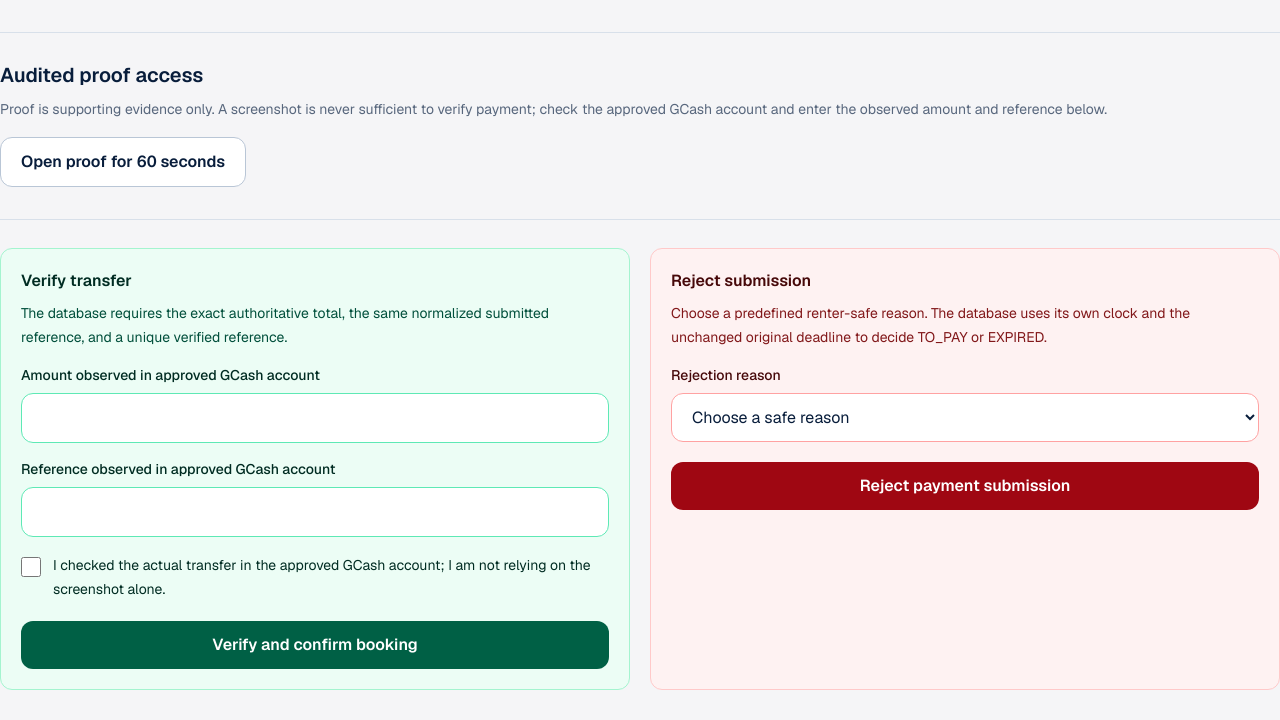
it: retains the rejection reason after a returned failure
Step 1. Select "Transfer was not found in GCash" in the dropdown labelled "Rejection reason" → {"x": 965, "y": 418}, box x1=671 y1=393 x2=1259 y2=442
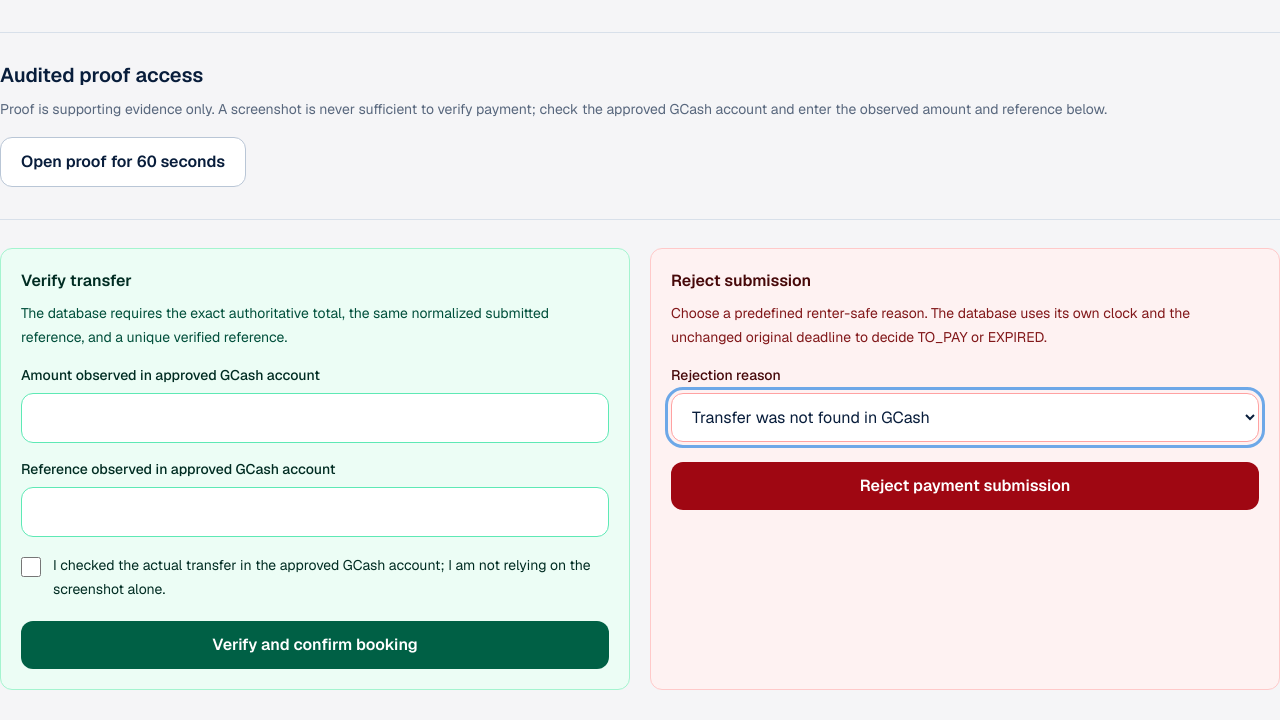
Step 2. Click the button "Reject payment submission" → {"x": 965, "y": 486}, box x1=671 y1=462 x2=1259 y2=510
(page scrolled)
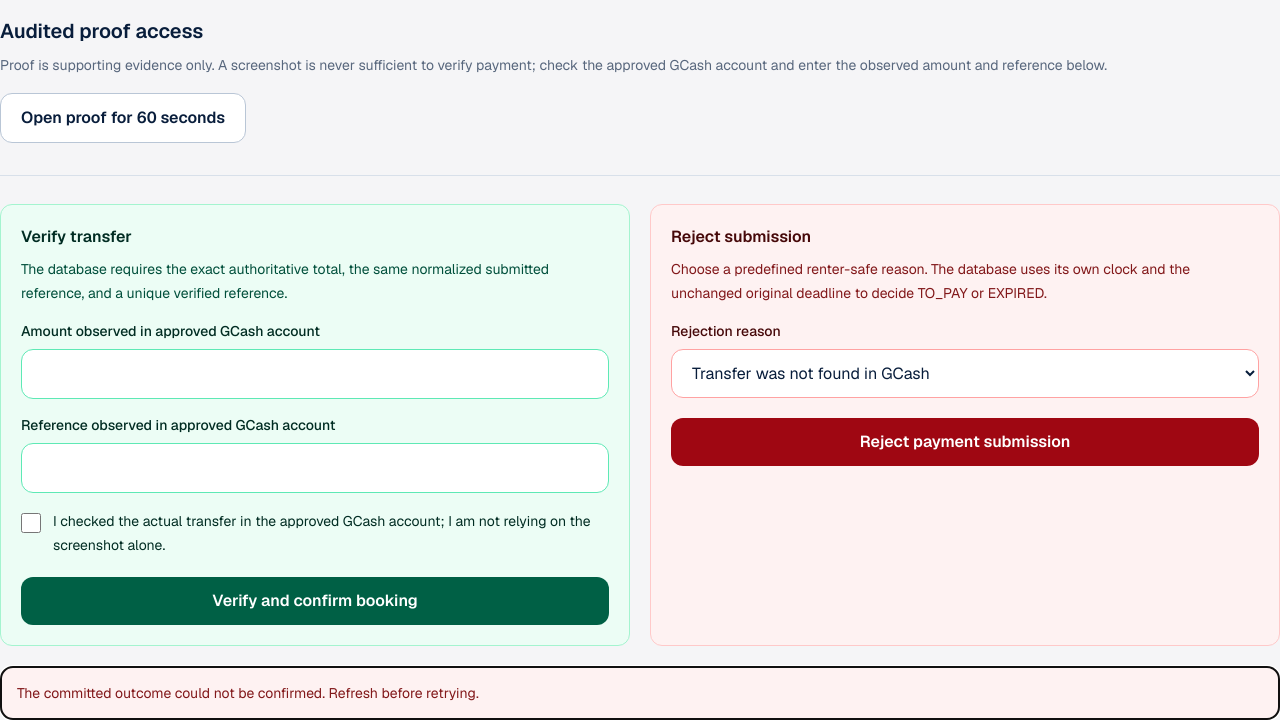
expect the text "The committed outcome could not be confirmed. Refresh before retrying." is shown: met, box x1=0 y1=666 x2=1279 y2=719
Step 3. Click the button "Reject payment submission" → {"x": 965, "y": 442}, box x1=671 y1=418 x2=1259 y2=466
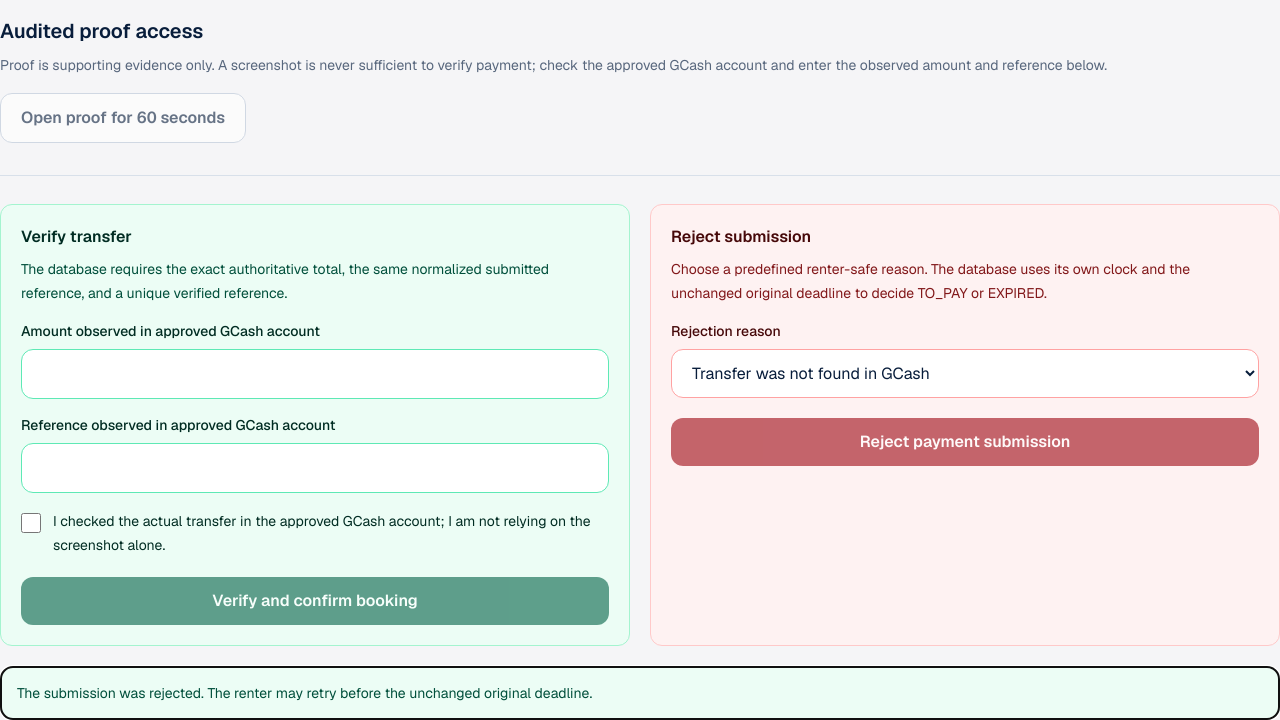
expect the text "The submission was rejected. The renter may retry before the unchanged original deadline." is shown: met, box x1=17 y1=684 x2=592 y2=702
